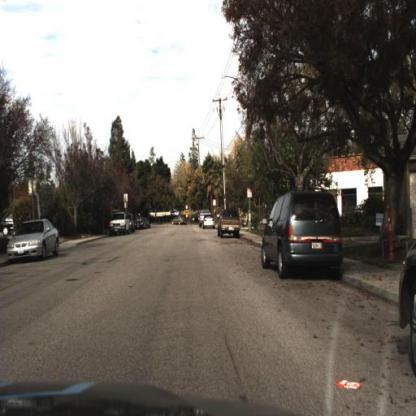car: (261, 181, 348, 283), (7, 217, 62, 265), (216, 205, 245, 243), (107, 209, 131, 237), (170, 210, 187, 229), (132, 210, 146, 233), (203, 214, 217, 233)
